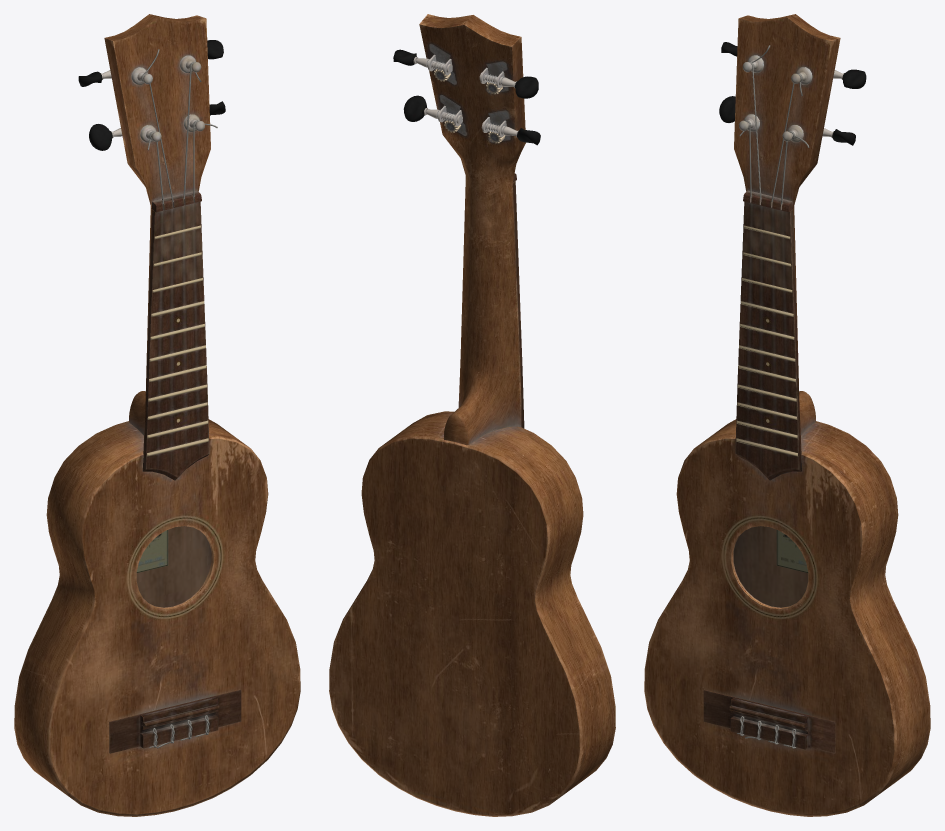
File: Ukulele_01.glb
The picture shows the model from 3 angles, left to right: view 1: azimuth 30°, elevation 25°; view 2: azimuth 150°, elevation 25°; view 3: azimuth 330°, elevation 25°; orthographic projection.
Visible parts, largest first — view 1: Ukulele_01.001; view 2: Ukulele_01.001; view 3: Ukulele_01.001.
Boxes of the visible parts, x1,y1,x2,y2 form: Ukulele_01.001: (14, 14, 300, 816); Ukulele_01.001: (329, 14, 615, 816); Ukulele_01.001: (644, 14, 930, 816).
Size of the model in its own units: 0.1363 by 0.4037 by 0.0382.
1 material, 1 textured.
